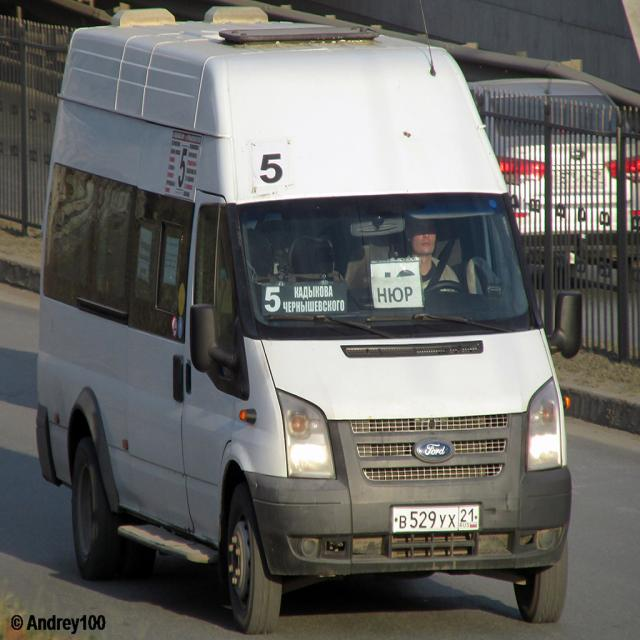number-of-bus: (257, 144, 289, 190), (266, 281, 283, 316)
